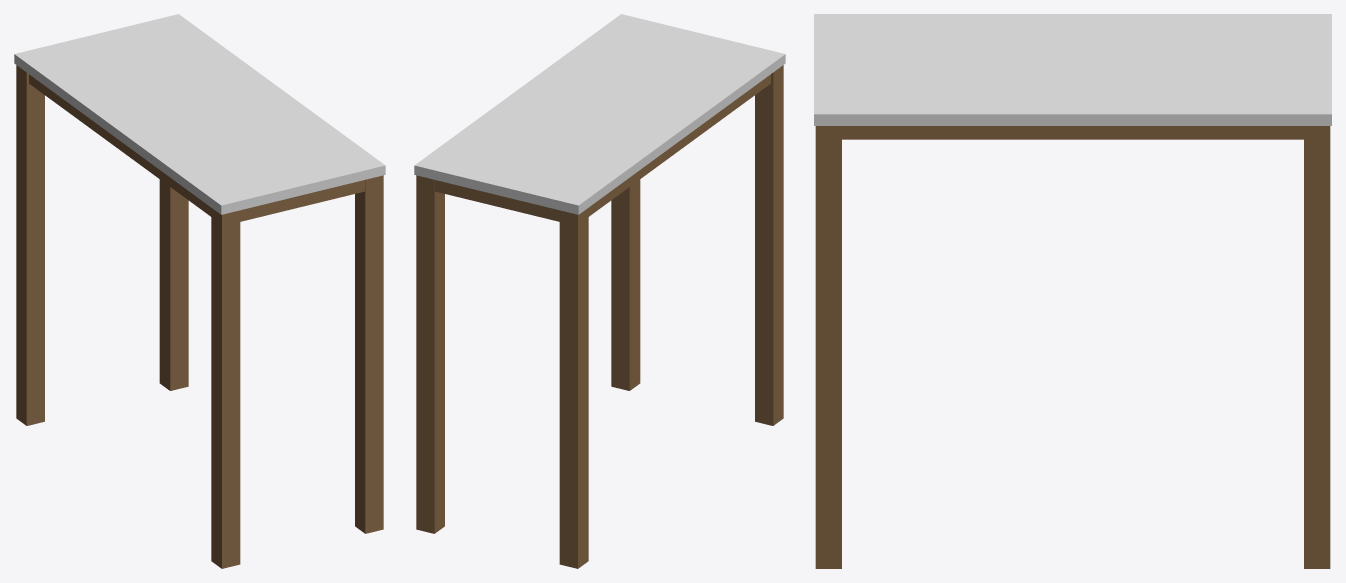
Rendered from Table_05_C1.fbx.
The picture shows the model from 3 angles, left to right: view 1: azimuth 30°, elevation 25°; view 2: azimuth 150°, elevation 25°; view 3: azimuth 270°, elevation 25°; orthographic projection. The views are drawn at different scales.
Parts seen in each view (by area): view 1: Table_05_C1; view 2: Table_05_C1; view 3: Table_05_C1.
Boxes of the visible parts, <box> form: Table_05_C1: <box>14,14,385,568</box>; Table_05_C1: <box>414,14,785,568</box>; Table_05_C1: <box>814,14,1331,568</box>.
Bounding box in the file's own units: 55 × 117 × 120.
